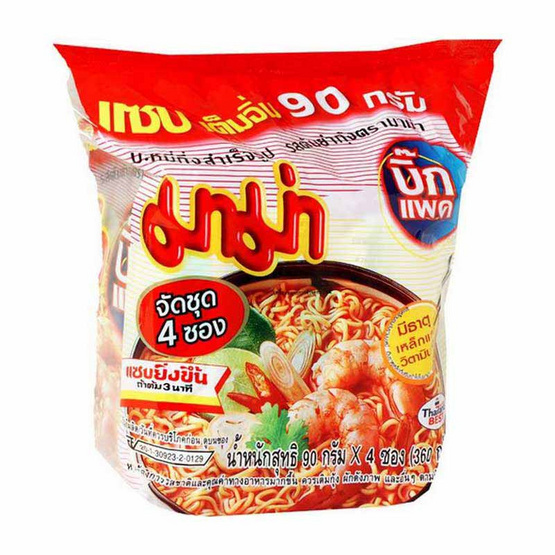Snack: (50, 31, 506, 520)
